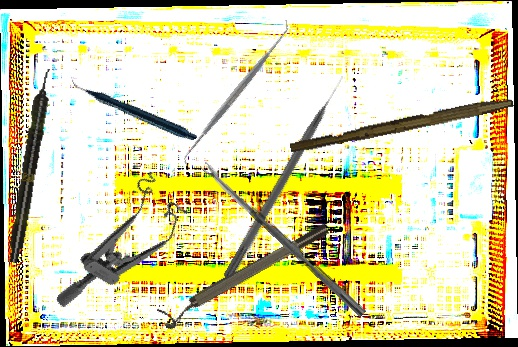Fixation Ring: (156, 220, 335, 332)
Handpiece: (71, 39, 198, 178), (5, 67, 56, 264)
Pusher: (222, 73, 350, 282)
Scalpel Handle: (288, 90, 515, 159)
Spatula Surgical: (174, 18, 299, 167)
Speculum: (54, 162, 197, 338)
Surgical Spoon: (200, 160, 367, 318)
